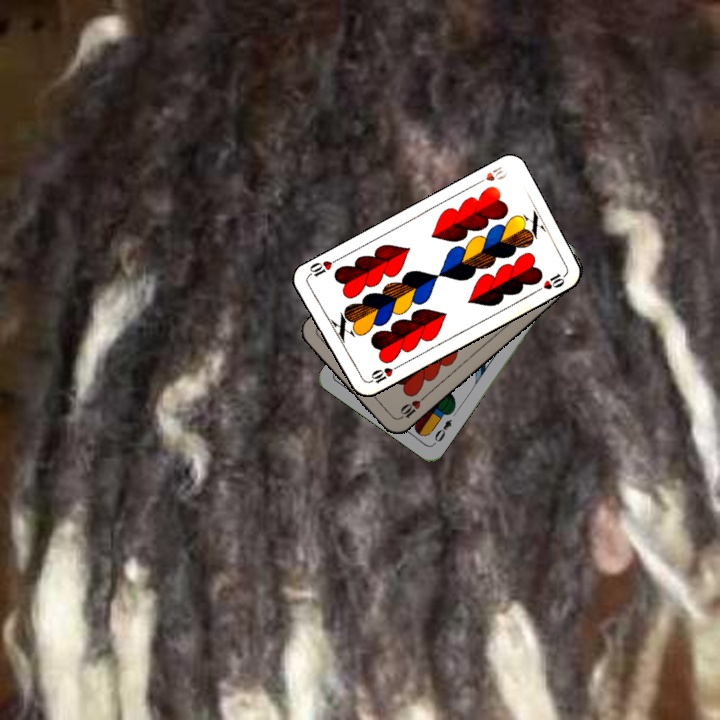EO: (430, 415, 455, 445)
H10: (393, 392, 428, 423), (471, 163, 510, 188), (363, 361, 401, 386)
